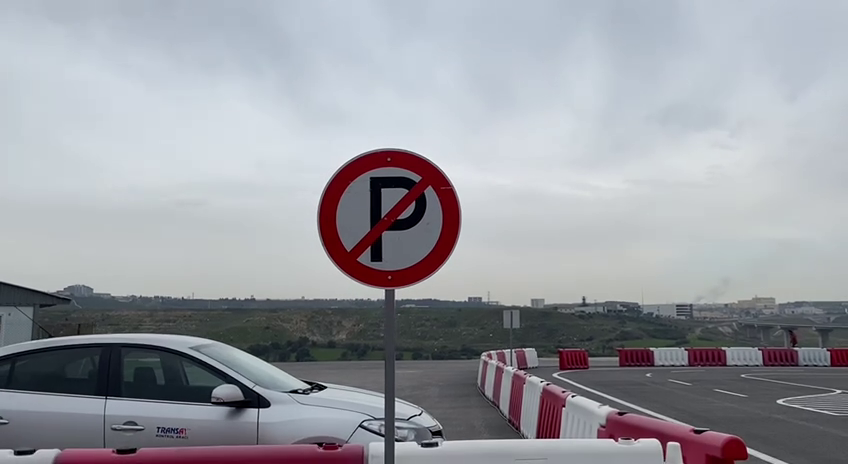noparking: (308, 140, 465, 294)
